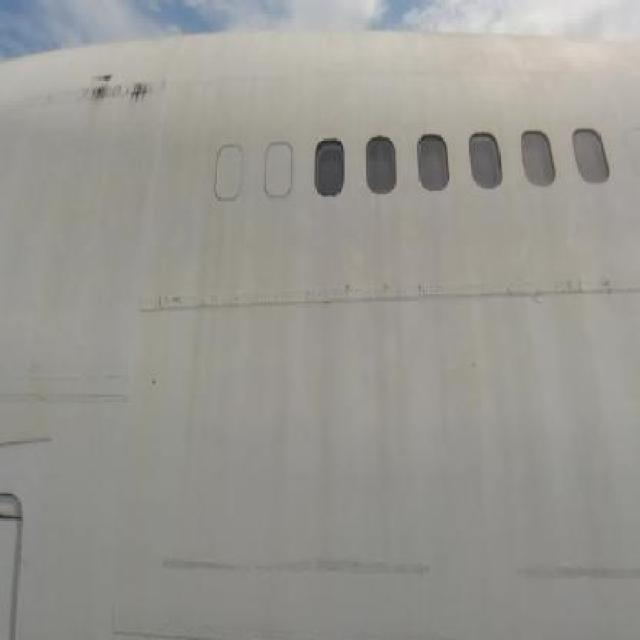Rust: (73, 57, 178, 117)
Scartch: (151, 542, 640, 608), (552, 275, 617, 300)
